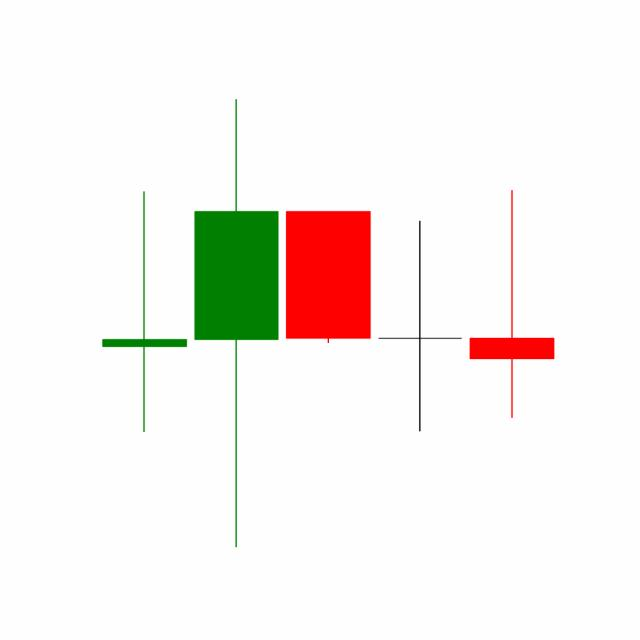Spinning Top: (464, 187, 558, 420)
